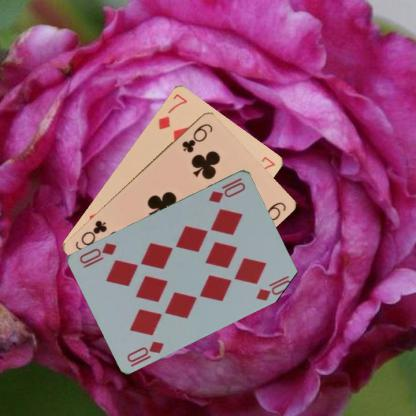10d: (124, 338, 166, 368), (206, 174, 246, 204)
6c: (179, 120, 214, 154)
7d: (155, 90, 188, 130)
